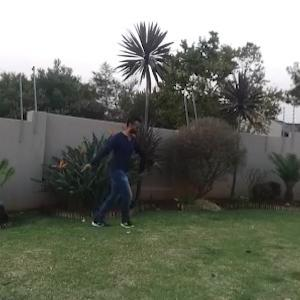land: (56, 100, 175, 246)
